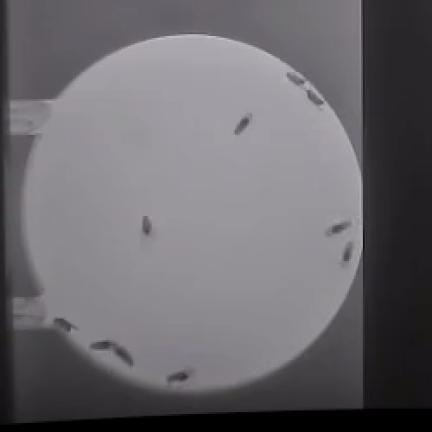fly: (166, 368, 195, 385), (325, 220, 352, 237), (113, 346, 134, 367), (236, 114, 252, 134), (306, 89, 324, 106), (54, 319, 77, 332), (343, 242, 354, 266), (287, 72, 305, 86), (90, 341, 115, 350), (142, 216, 152, 235)
